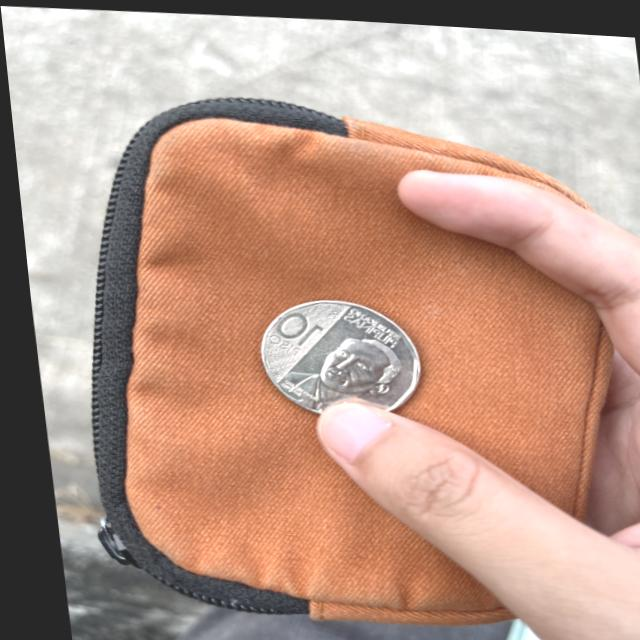10_New_Front: (247, 303, 322, 354)
